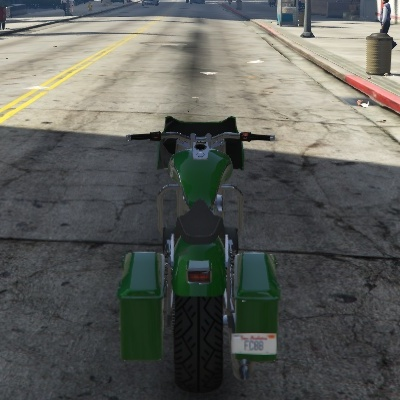off: (183, 251, 217, 292)
